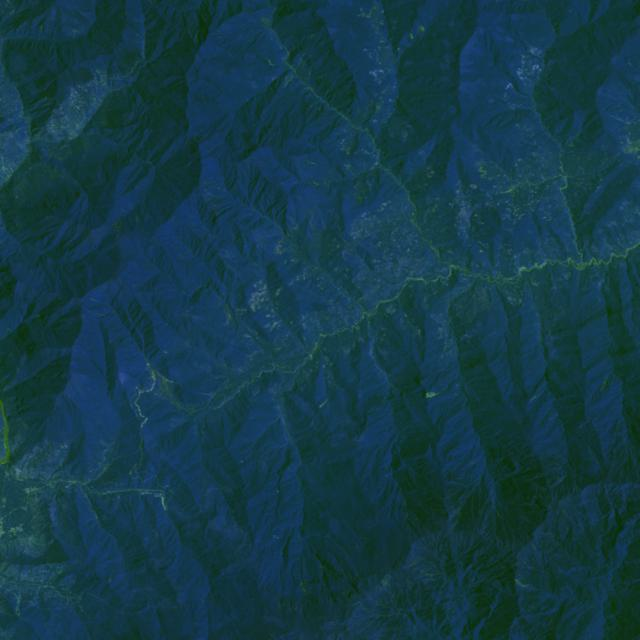landslides: (517, 512, 538, 528), (599, 370, 614, 391), (296, 48, 307, 71), (425, 388, 445, 398), (611, 115, 632, 124), (284, 73, 296, 88), (604, 239, 615, 255), (381, 577, 392, 593), (530, 391, 545, 402), (514, 579, 532, 587), (509, 101, 527, 109), (15, 593, 21, 616), (202, 392, 216, 400), (132, 58, 140, 71)
